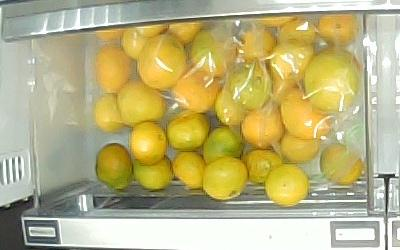tangerine: (118, 82, 166, 126), (203, 157, 248, 201), (265, 164, 309, 206), (165, 112, 210, 151), (96, 143, 132, 190), (94, 45, 130, 91), (130, 122, 167, 165), (204, 126, 243, 164), (131, 157, 173, 191), (171, 151, 205, 189), (93, 94, 125, 133), (244, 150, 280, 183)
tangerine_vinyl: (304, 48, 359, 110), (280, 88, 333, 139), (137, 35, 186, 88), (191, 29, 236, 76), (172, 71, 222, 112), (240, 107, 285, 150), (230, 65, 272, 109), (320, 144, 364, 186), (271, 42, 312, 79), (237, 29, 276, 62), (318, 13, 357, 46), (277, 19, 318, 49), (279, 136, 321, 163), (122, 28, 155, 58)
